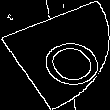O_NW: (13, 22, 97, 88)
